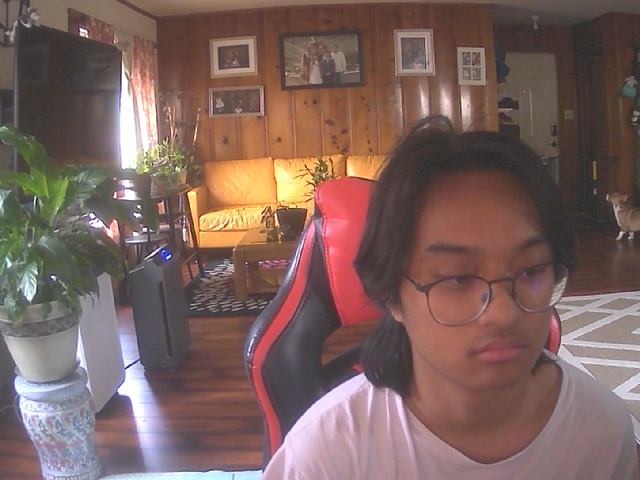neutral: (381, 150, 578, 396)
